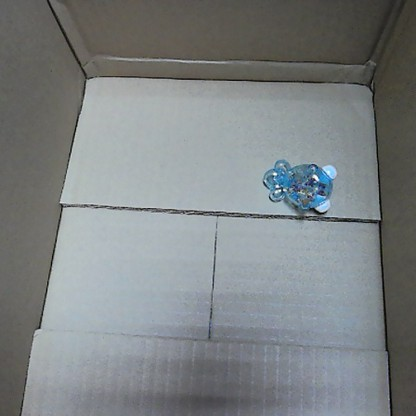bluefish: (259, 154, 343, 217)
